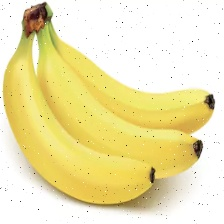banana: (32, 50, 198, 216)
